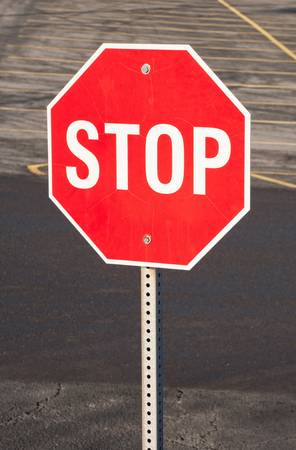stopsign: (48, 40, 250, 271)
